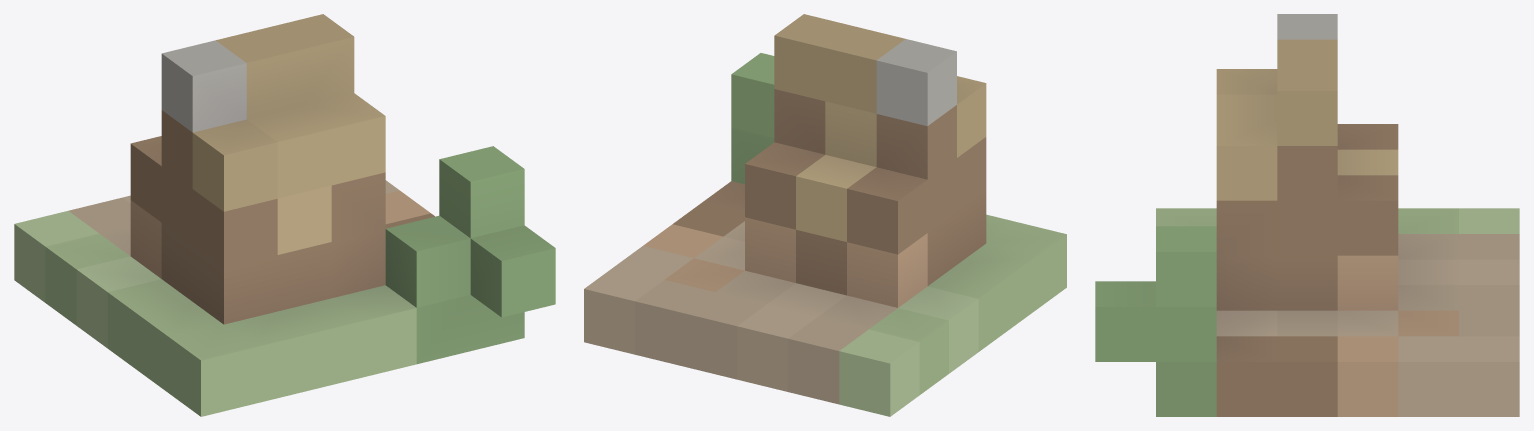
The model's file is lumberjack.lite.glb.
3 views of the same model, side by side, from view 1: azimuth 30°, elevation 25°; view 2: azimuth 150°, elevation 25°; view 3: azimuth 270°, elevation 25° (orthographic). The views are drawn at different scales.
Visible parts, largest first — view 1: lumberjack; view 2: lumberjack; view 3: lumberjack.
Boxes of the visible parts, x1,y1,x2,y2 form: lumberjack: (14,14,555,416); lumberjack: (584,14,1066,416); lumberjack: (1095,14,1519,416).
Bounding box in the file's own units: 3 × 2.5 × 3.5.
